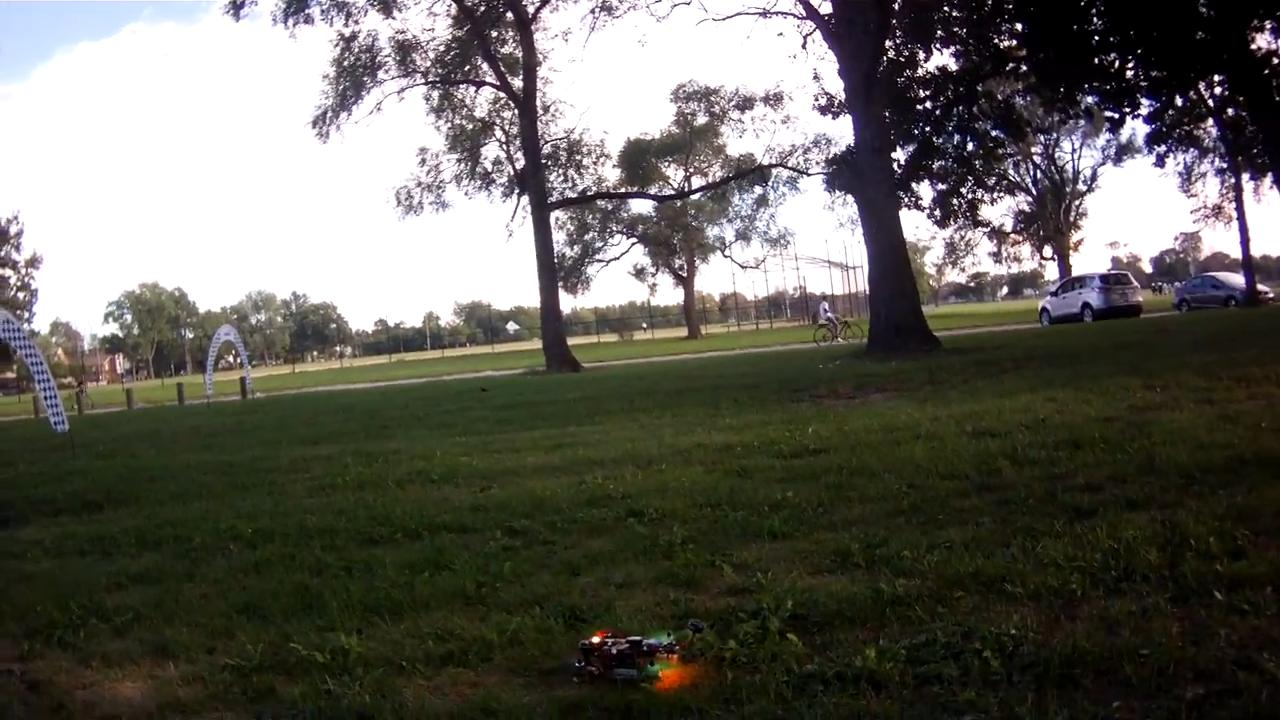gate: (197, 322, 256, 399)
